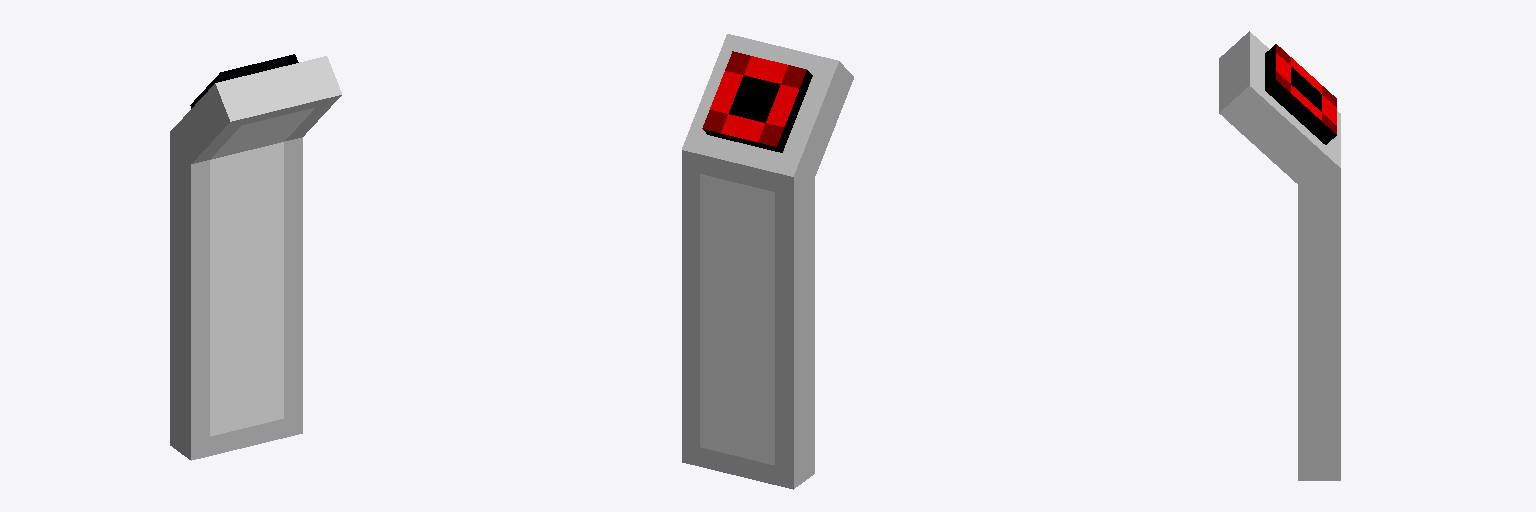
3 views of the same model, side by side, from view 1: azimuth 30°, elevation 25°; view 2: azimuth 150°, elevation 25°; view 3: azimuth 270°, elevation 25° (orthographic).
Visible parts, largest first — view 1: cube; view 2: cube; view 3: cube.
Part boxes in pixels (x1,y1,x2,y2): cube: (170, 54, 341, 460); cube: (682, 34, 853, 489); cube: (1219, 31, 1340, 480).
Size of the model in its own units: 0.375 by 1.27 by 0.3536.
1 materials, 1 textured.